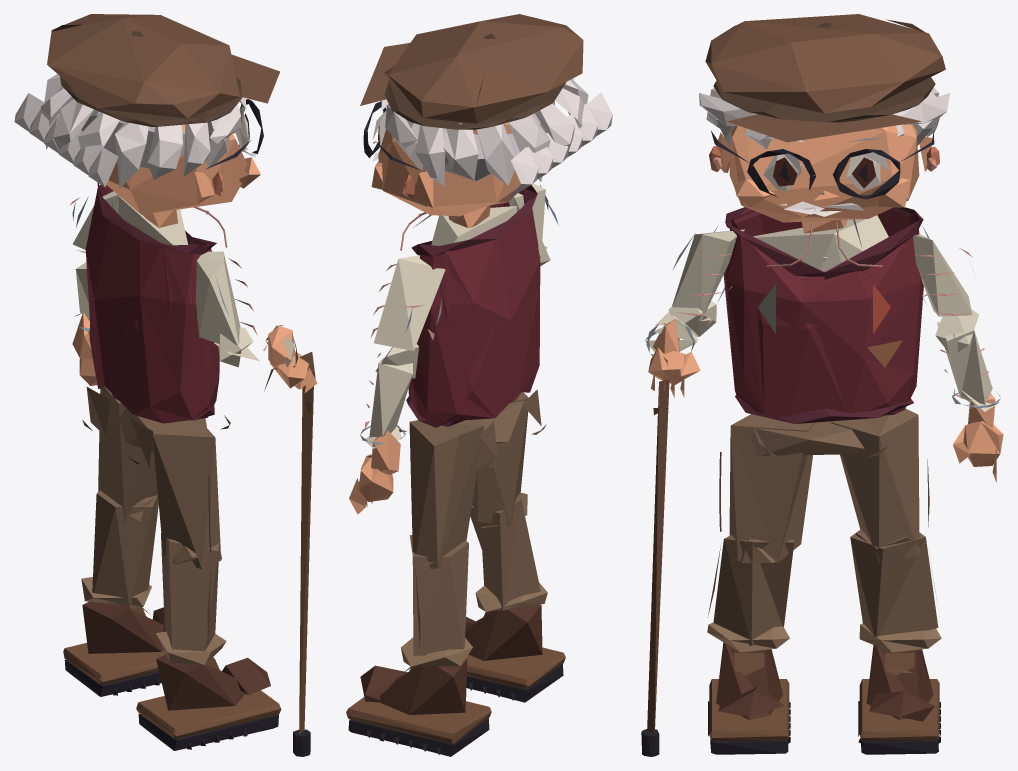
File: npc.civilian-elderly.lod2.glb
The picture shows the model from 3 angles, left to right: view 1: azimuth 30°, elevation 25°; view 2: azimuth 150°, elevation 25°; view 3: azimuth 270°, elevation 25°; orthographic projection.
Parts seen in each view (by area): view 1: head, torso, footR, legR, footL, shinL, shinR, handR, legL, armR, hip, foreArmR (+3 smaller); view 2: head, torso, footL, legL, footR, shinL, shinR, armL, legR, foreArmL, handL, hip (+1 smaller); view 3: head, torso, legR, legL, shinL, footR, footL, shinR, handR, armR, foreArmL, hip (+3 smaller).
Boxes of the visible parts, bbox=[...] form: head: bbox=[14, 14, 279, 227]; torso: bbox=[85, 183, 227, 423]; footR: bbox=[136, 654, 281, 750]; legR: bbox=[152, 419, 221, 569]; footL: bbox=[63, 601, 165, 696]; shinL: bbox=[81, 490, 158, 606]; shinR: bbox=[156, 533, 226, 664]; handR: bbox=[264, 325, 317, 756]; legL: bbox=[98, 387, 158, 523]; armR: bbox=[188, 251, 257, 346]; hip: bbox=[82, 387, 230, 468]; foreArmR: bbox=[214, 325, 297, 367]; head: bbox=[360, 14, 612, 228]; torso: bbox=[400, 185, 540, 427]; footL: bbox=[346, 659, 491, 756]; legL: bbox=[409, 419, 483, 568]; footR: bbox=[465, 604, 565, 702]; shinL: bbox=[401, 535, 472, 666]; shinR: bbox=[470, 493, 547, 611]; armL: bbox=[370, 255, 445, 350]; legR: bbox=[472, 392, 528, 525]; foreArmL: bbox=[360, 344, 418, 448]; handL: bbox=[349, 430, 400, 514]; hip: bbox=[399, 389, 546, 471]; head: bbox=[699, 14, 949, 233]; torso: bbox=[723, 207, 923, 423]; legR: bbox=[719, 414, 814, 562]; legL: bbox=[831, 408, 929, 563]; shinL: bbox=[850, 529, 941, 652]; footR: bbox=[708, 642, 790, 754]; footL: bbox=[858, 645, 940, 754]; shinR: bbox=[707, 535, 794, 652]; handR: bbox=[641, 319, 700, 756]; armR: bbox=[672, 226, 744, 321]; foreArmL: bbox=[935, 309, 1000, 411]; hip: bbox=[751, 421, 888, 458].
Size of the model in its own units: 0.4467 by 1.4 by 0.6645.
